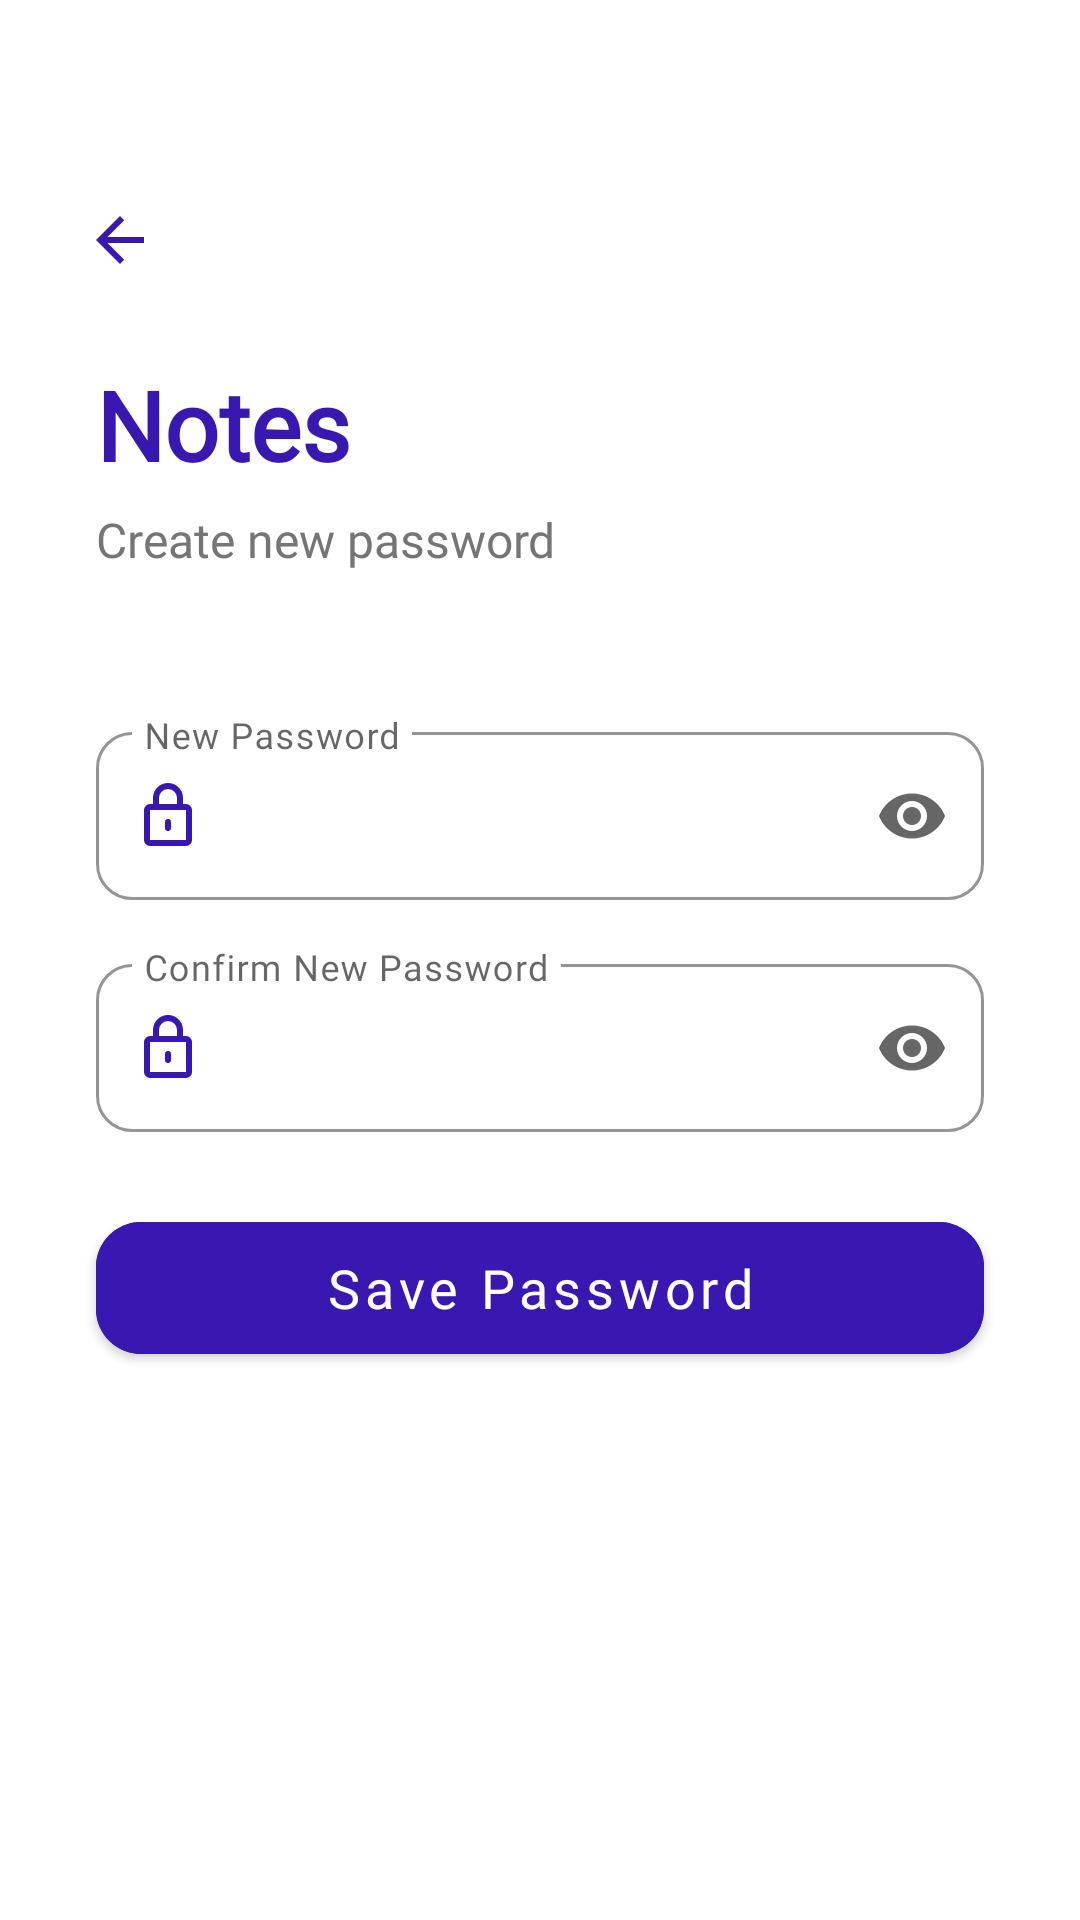

Named icons in this screenshot (1080x1920) and their centers, point (x, y):
back: point (120, 240)
